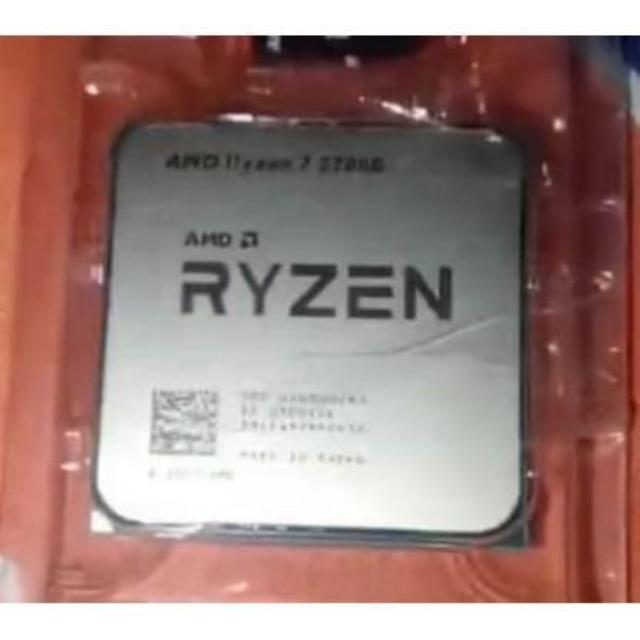CPU: (92, 113, 522, 538)
